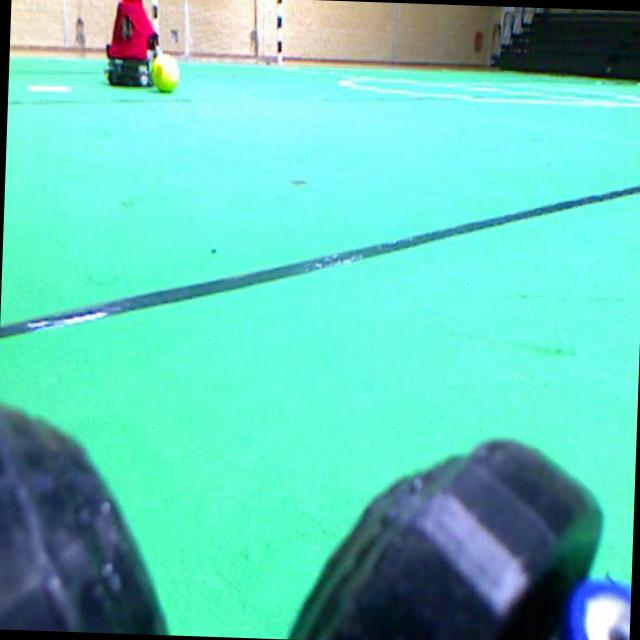ball: (150, 53, 179, 91)
